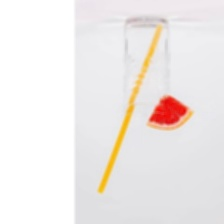drinking_straw: (92, 21, 168, 197)
glass: (118, 11, 172, 122)
